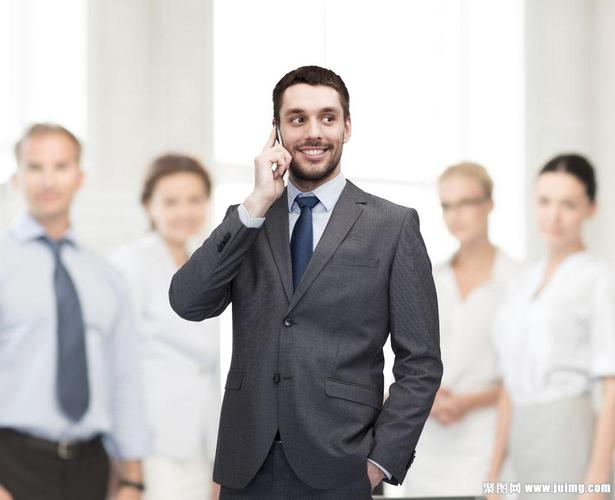calling: (254, 118, 295, 202)
